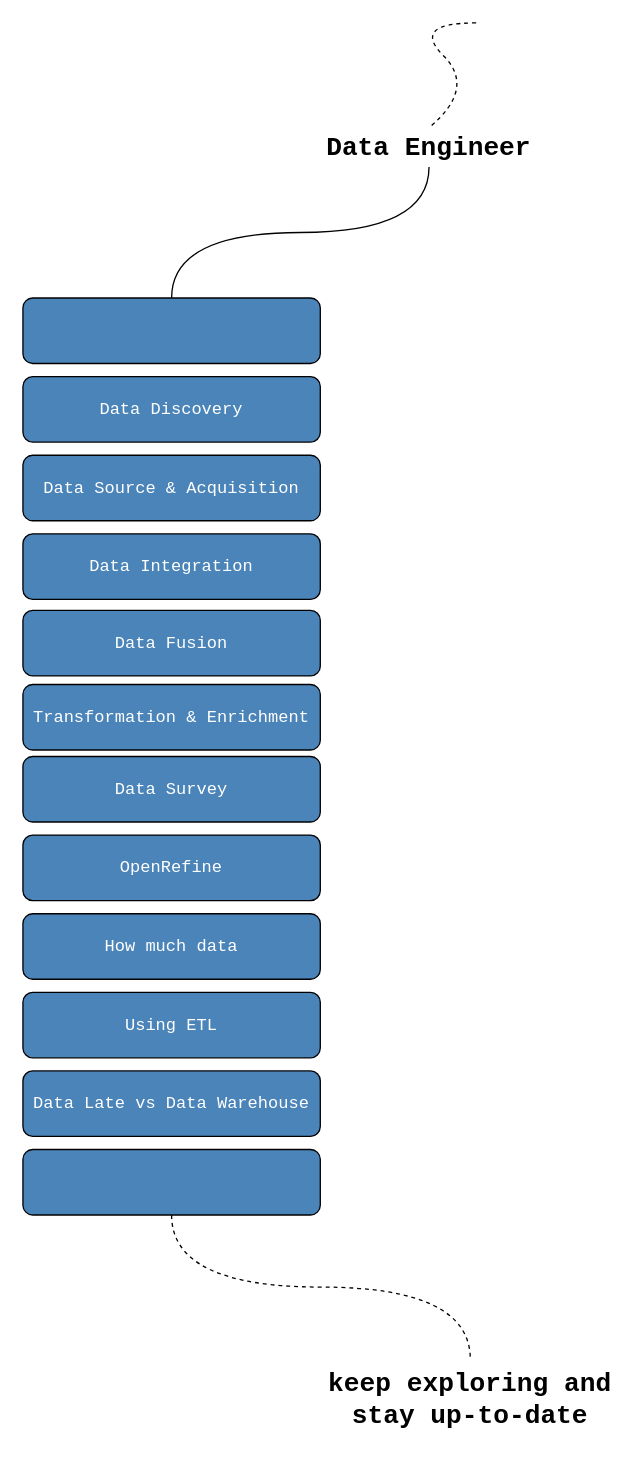
Image size: 643x1462. Some labels were removed from this diagram. Each missing label, with the box of its shape:
Dockerize your python application: (22, 1148, 320, 1215)
Summary of Data Formats: (22, 297, 320, 364)
